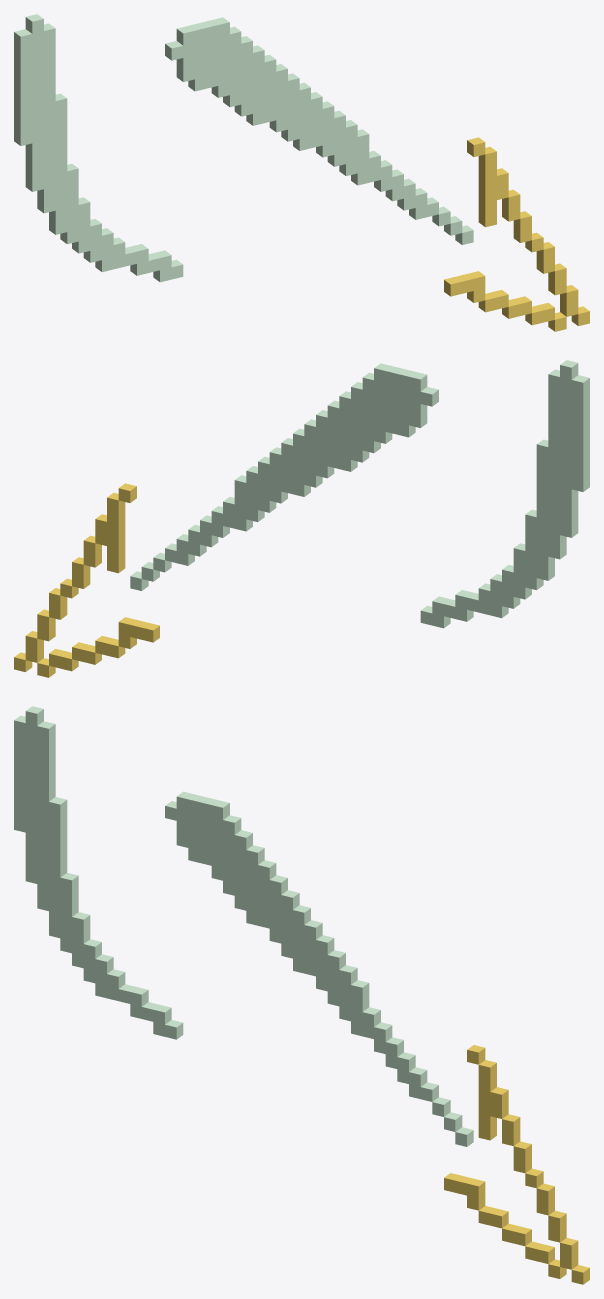
File: Fight_742_2_08_fx.obj
3 views of the same model, one above another, from view 1: azimuth 30°, elevation 25°; view 2: azimuth 150°, elevation 25°; view 3: azimuth 330°, elevation 25° (orthographic).
Size of the model in its own units: 4.9 by 3.6 by 0.1.
1 material, 1 textured.
